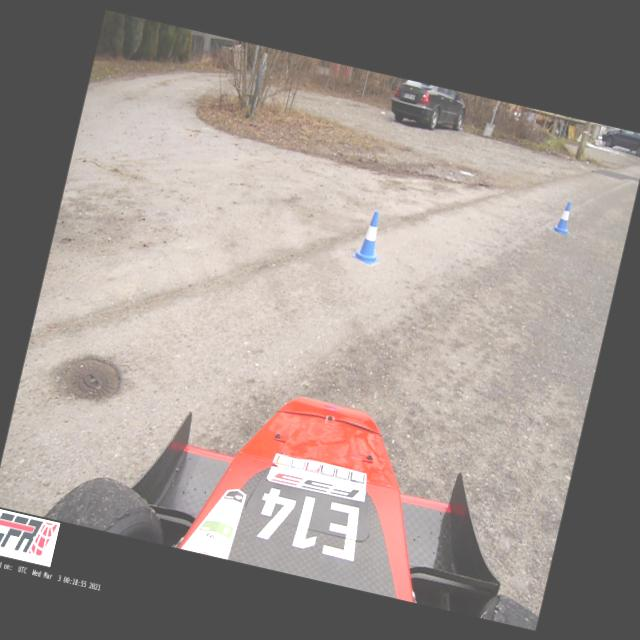blue_cone: (351, 208, 388, 264), (551, 200, 575, 234)
